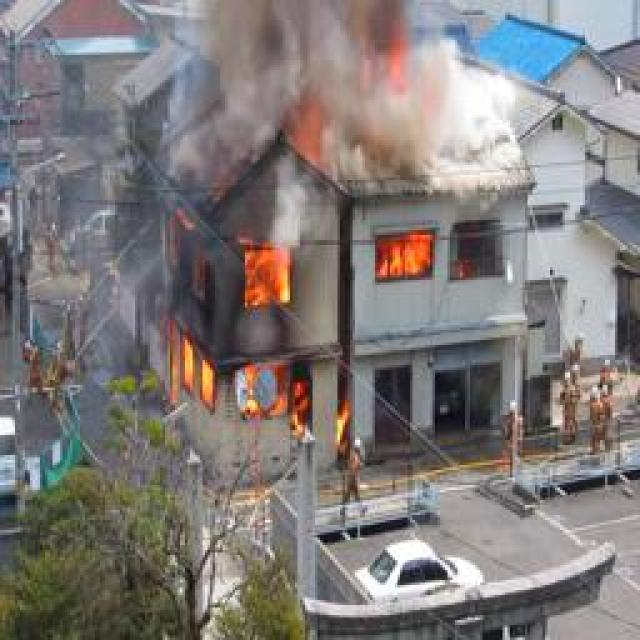Fire: (157, 228, 314, 450), (374, 225, 441, 286)
